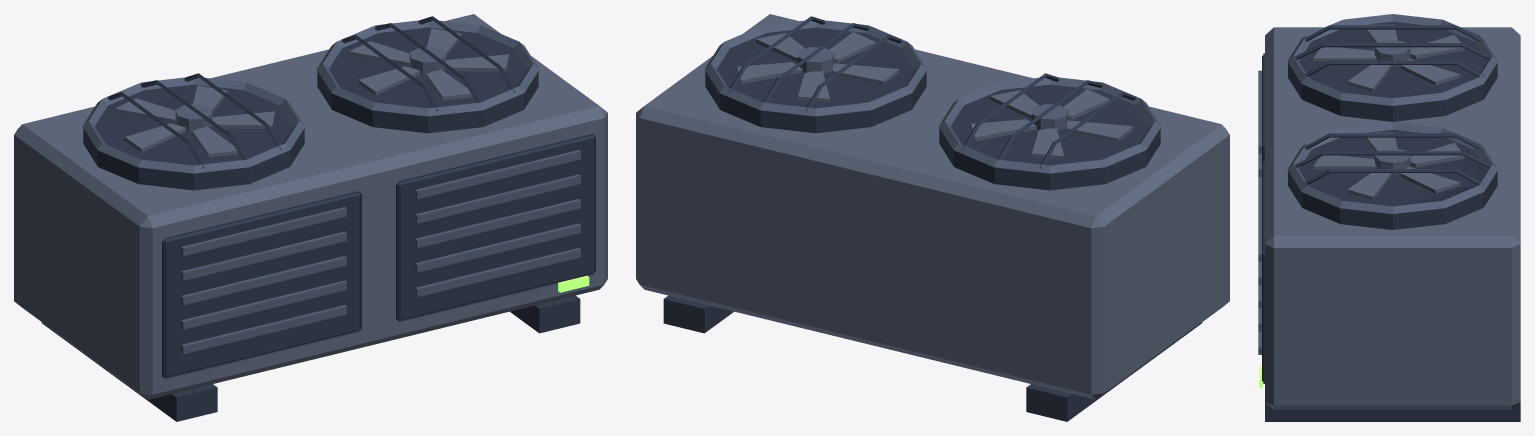
Rendered from city_roof_hvac_unit.glb.
The picture shows the model from 3 angles, left to right: view 1: azimuth 30°, elevation 25°; view 2: azimuth 150°, elevation 25°; view 3: azimuth 270°, elevation 25°; orthographic projection. The views are drawn at different scales.
Parts seen in each view (by area): view 1: housing, access_panel.001, access_panel, fan_collar, fan_collar.001, fan_rim, fan_rim.001, skid, louvre.001, louvre.004, louvre.006, louvre (+22 smaller); view 2: housing, fan_collar.001, fan_collar, fan_rim, fan_rim.001, skid, skid.001, fan_blade.002, fan_blade.007, fan_blade.004, fan_blade.009, fan_hub.001 (+10 smaller); view 3: housing, fan_collar.001, fan_collar, fan_rim, fan_rim.001, skid.001, fan_guard.001, fan_guard.004, fan_guard, fan_guard.003, fan_guard.002, fan_blade.001 (+17 smaller).
Boxes of the visible parts, box(x1,y1,x2,y2) form: housing: box(14, 14, 607, 399); access_panel.001: box(396, 134, 595, 322); access_panel: box(162, 191, 361, 379); fan_collar: box(83, 84, 304, 190); fan_collar.001: box(317, 27, 538, 133); fan_rim: box(82, 77, 305, 173); fan_rim.001: box(316, 20, 539, 116); skid: box(41, 322, 217, 421); louvre.001: box(181, 280, 346, 329); louvre.004: box(181, 207, 346, 256); louvre.006: box(415, 223, 580, 272); louvre: box(181, 305, 346, 354); housing: box(636, 14, 1229, 399); fan_collar.001: box(705, 27, 926, 133); fan_collar: box(939, 84, 1160, 190); fan_rim: box(938, 77, 1161, 173); fan_rim.001: box(704, 20, 927, 116); skid: box(1026, 322, 1202, 421); skid.001: box(663, 295, 733, 333); fan_blade.002: box(1066, 120, 1133, 141); fan_blade.007: box(832, 63, 899, 84); fan_blade.004: box(971, 119, 1036, 140); fan_blade.009: box(737, 62, 802, 83); fan_hub.001: box(797, 47, 834, 73); housing: box(1265, 27, 1520, 409); fan_collar.001: box(1288, 129, 1497, 229); fan_collar: box(1288, 21, 1497, 121); fan_rim: box(1287, 14, 1498, 106); fan_rim.001: box(1287, 122, 1498, 214); skid.001: box(1265, 402, 1520, 421); fan_guard.001: box(1294, 43, 1491, 59); fan_guard.004: box(1294, 151, 1491, 167); fan_guard: box(1301, 25, 1484, 41); fan_guard.003: box(1301, 133, 1484, 149); fan_guard.002: box(1301, 60, 1484, 76); fan_blade.001: box(1313, 47, 1376, 61).
Size of the model in its own units: 4 by 2 by 2.05.
